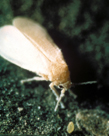whitefly: (1, 18, 96, 112)
